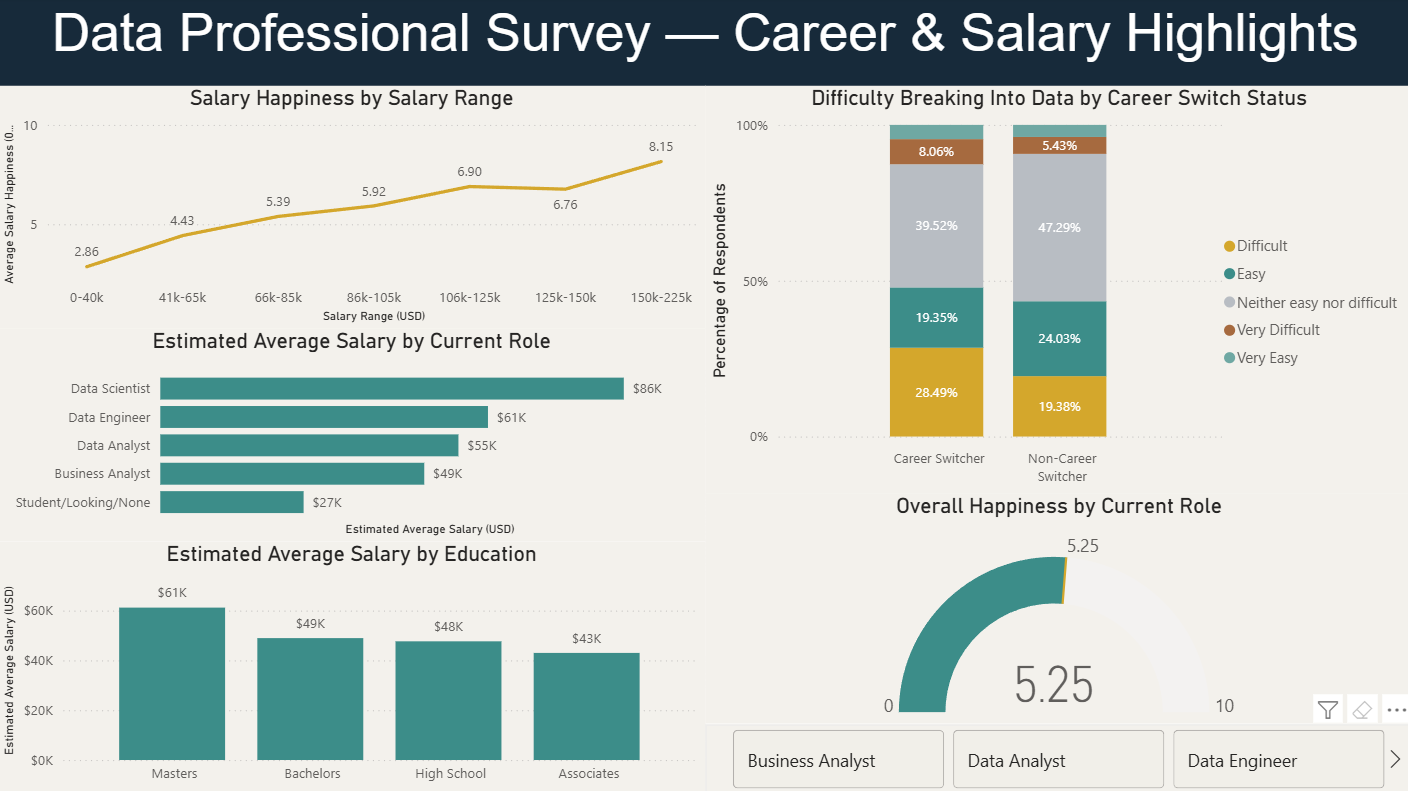

This screenshot's page, from the dashboard's own definition file:
{"tool":"powerbi","page":{"name":"Page 2","canvas":[1280,720],"ordinal":1},"visuals":[{"type":"textbox","box":[0,0,1279.5,80.8],"z":0},{"type":"clusteredBarChart","title":"Estimated Average Salary by Current Role","fields":{"Category":["data_profession_survey survey_staging3.current_role"],"Y":["Avg(data_profession_survey survey_staging3.salary_midpoint)"]},"box":[0,300,639.7,193.2],"z":1000},{"type":"hundredPercentStackedColumnChart","title":"Difficulty Breaking Into Data by Career Switch Status","fields":{"Series":["data_profession_survey survey_staging3.difficulty_breaking_into_data"],"Y":["CountNonNull(data_profession_survey survey_staging3.respondent_id)"],"Category":["data_profession_survey survey_staging3.Career Switch Status"]},"box":[639.7,80.8,639.7,368.5],"z":2000},{"type":"lineChart","title":"Salary Happiness by Salary Range","fields":{"Y":["Avg(data_profession_survey survey_staging3.salary_happiness)"],"Category":["data_profession_survey survey_staging3.salary"]},"box":[0,80.8,639.7,219.2],"z":3000},{"type":"columnChart","title":"Estimated Average Salary by Education","fields":{"Category":["data_profession_survey survey_staging3.highest_education"],"Y":["Avg(data_profession_survey survey_staging3.salary_midpoint)"]},"box":[0,493.2,639.7,227.4],"z":4000},{"type":"gauge","title":"Overall Happiness by Current Role","fields":{"Y":["data_profession_survey survey_staging3.Overall Happiness"],"MinValue":["data_profession_survey survey_staging3.Happiness Minimum"],"MaxValue":["data_profession_survey survey_staging3.Happiness Maximum"],"TargetValue":["data_profession_survey survey_staging3.Overall Happiness Benchmark"]},"box":[639.7,449.3,639.7,208.2],"z":5000},{"type":"advancedSlicerVisual","fields":{"Values":["data_profession_survey survey_staging3.current_role"]},"box":[639.7,657.5,639.7,63],"z":6000}]}

Visuals, with their boxes in screenshot pixels (x1, y1, x2, y2), scaled from the page's 1280x720 canvas onto the 1408x791 screenshot:
textbox: [0,0,1407,89]
"Estimated Average Salary by Current Role" clusteredBarChart: [0,330,704,542]
"Difficulty Breaking Into Data by Career Switch Status" hundredPercentStackedColumnChart: [704,89,1407,494]
"Salary Happiness by Salary Range" lineChart: [0,89,704,330]
"Estimated Average Salary by Education" columnChart: [0,542,704,790]
"Overall Happiness by Current Role" gauge: [704,494,1407,722]
advancedSlicerVisual - data_profession_survey survey_staging3.current_role: [704,722,1407,790]
